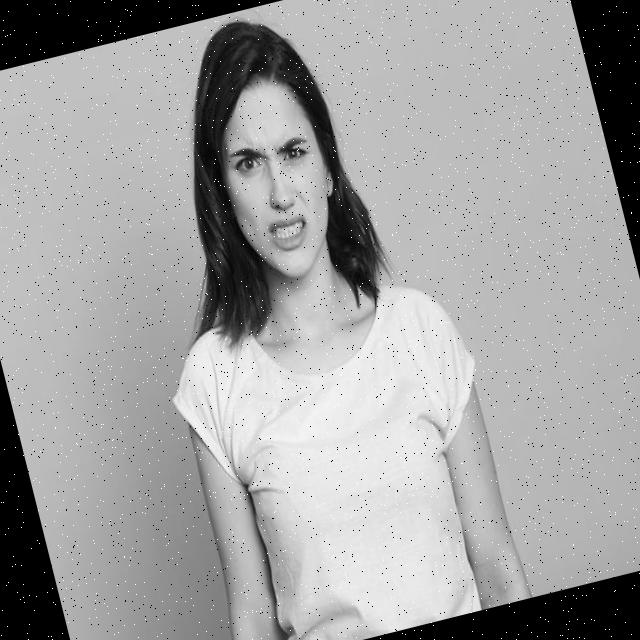Disgust: (205, 75, 349, 288)
